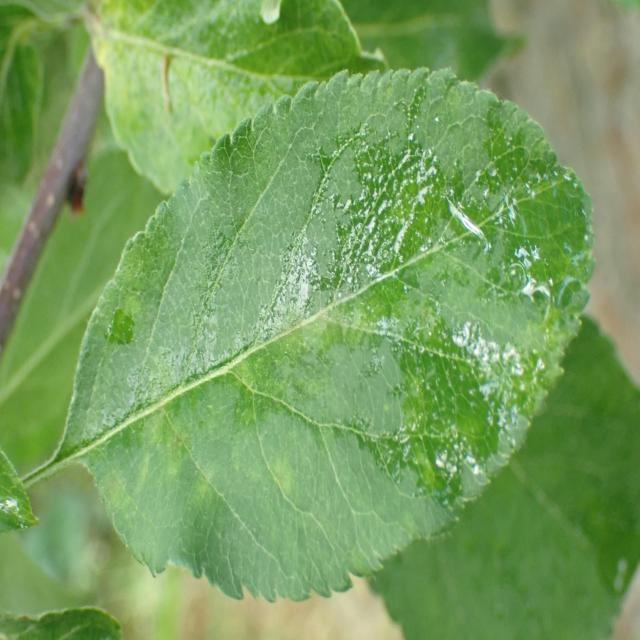scab: (93, 161, 580, 544)
